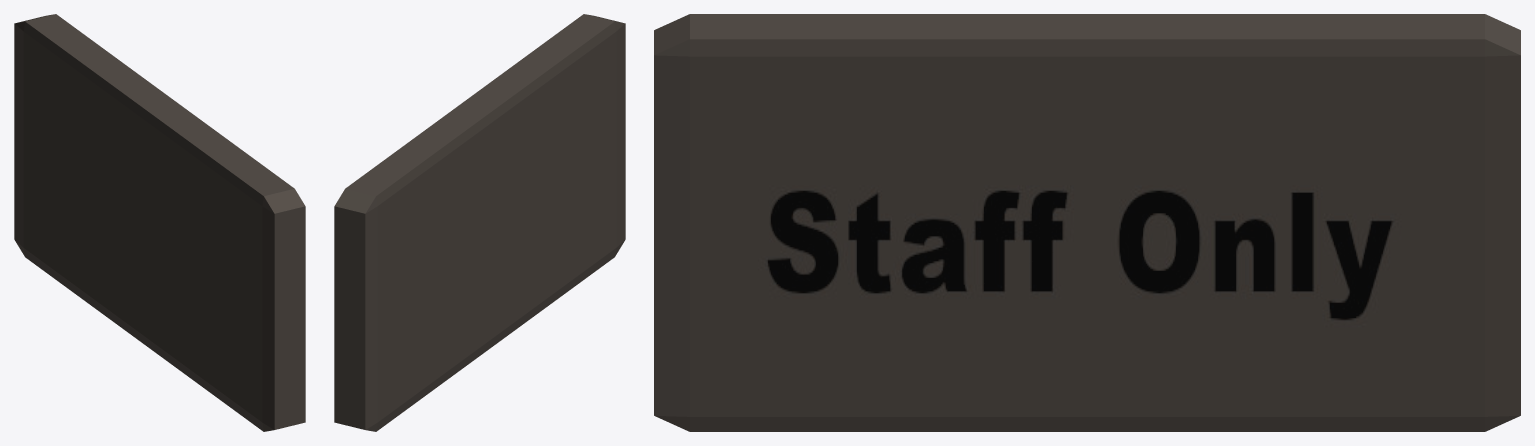
Rendered from staffSign.fbx.
3 views of the same model, side by side, from view 1: azimuth 30°, elevation 25°; view 2: azimuth 150°, elevation 25°; view 3: azimuth 270°, elevation 25° (orthographic). The views are drawn at different scales.
Visible parts, largest first — view 1: Cube; view 2: Cube; view 3: Cube.
Part boxes in pixels (x1,y1,x2,y2): Cube: (14, 14, 305, 431); Cube: (334, 14, 625, 431); Cube: (654, 14, 1520, 431).
Bounding box in the file's own units: 3 × 20 × 40.
